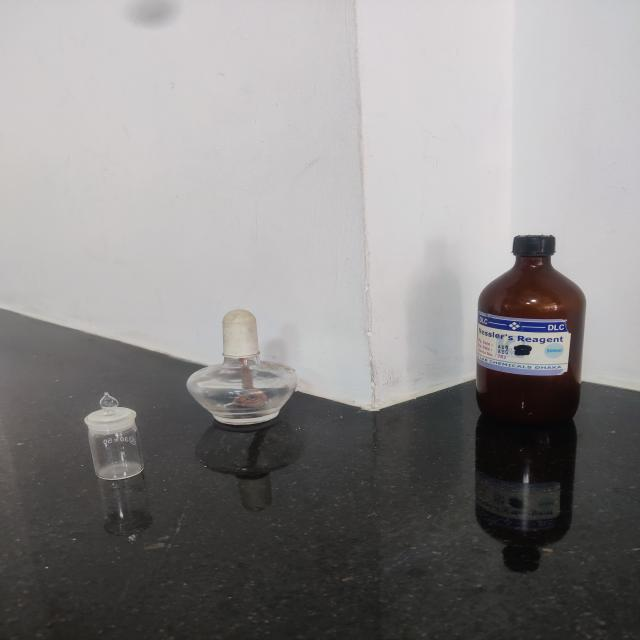Nessler_Reagent_Bottle: (439, 210, 604, 453)
Spirit_Lamp: (179, 302, 307, 436)
Weighing_Bottle: (60, 383, 157, 490)
